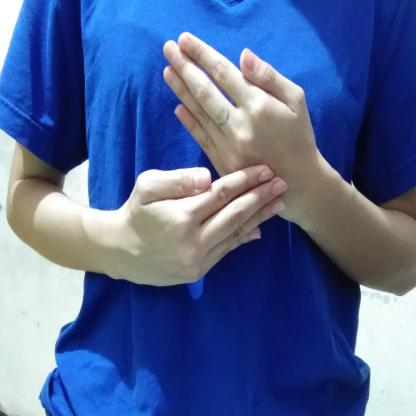thank you: (101, 28, 324, 295)
